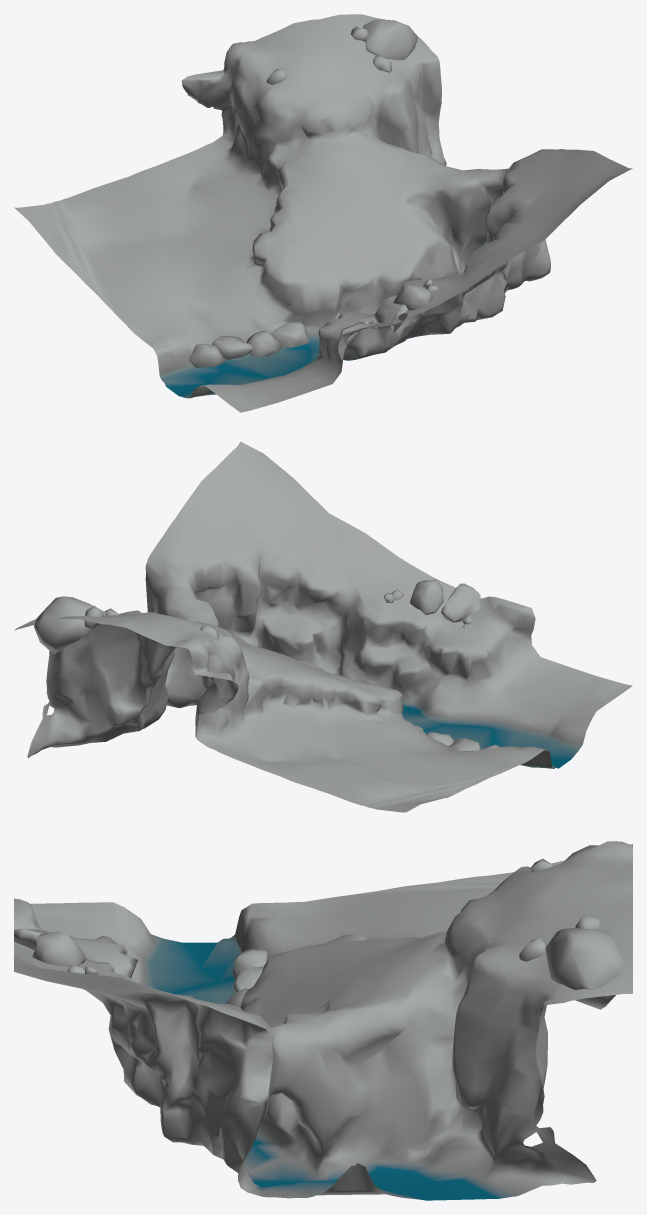
3 renders of one model, top to bottom at view 1: azimuth 30°, elevation 25°; view 2: azimuth 150°, elevation 25°; view 3: azimuth 270°, elevation 25°, orthographic. The views are drawn at different scales.
Visible parts, largest first — view 1: G:\FFXIV-MapTools\exports\s1f3\bg\ffxiv\sea_s1\fld\s1f3\bgpl (×17); view 2: G:\FFXIV-MapTools\exports\s1f3\bg\ffxiv\sea_s1\fld\s1f3\bgpl (×18); view 3: G:\FFXIV-MapTools\exports\s1f3\bg\ffxiv\sea_s1\fld\s1f3\bgpl (×18).
Part boxes in pixels (x1,y1,x2,y2): G:\FFXIV-MapTools\exports\s1f3\bg\ffxiv\sea_s1\fld\s1f3\bgpl (×17): (14,14,632,412); G:\FFXIV-MapTools\exports\s1f3\bg\ffxiv\sea_s1\fld\s1f3\bgpl (×18): (14,441,632,812); G:\FFXIV-MapTools\exports\s1f3\bg\ffxiv\sea_s1\fld\s1f3\bgpl (×18): (14,841,632,1200).
Bounding box in the file's own units: 128 × 65.52 × 128.
